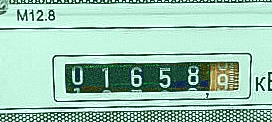0: (70, 64, 83, 86)
1: (100, 66, 110, 88)
5: (157, 65, 171, 88)
6: (128, 65, 142, 87)
8: (185, 63, 199, 86)
9: (213, 71, 228, 93)
screen: (45, 43, 259, 110)
